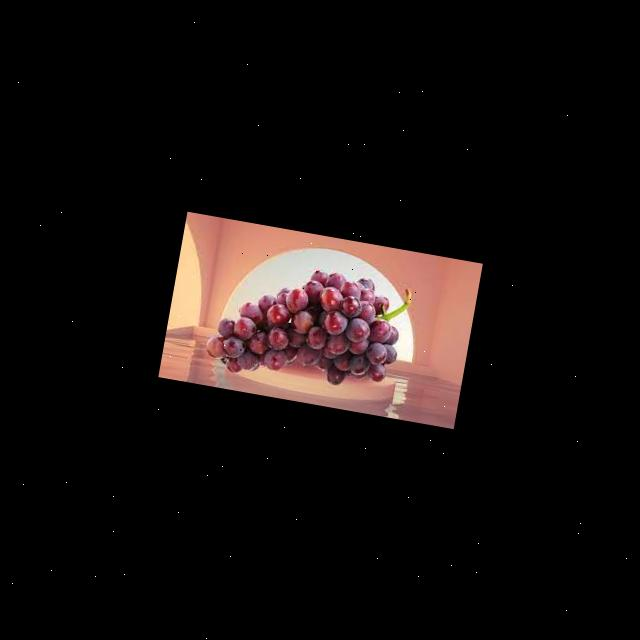grape: (202, 251, 412, 400)
